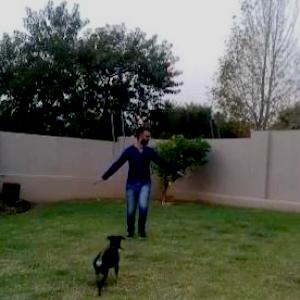land: (74, 121, 188, 246)
